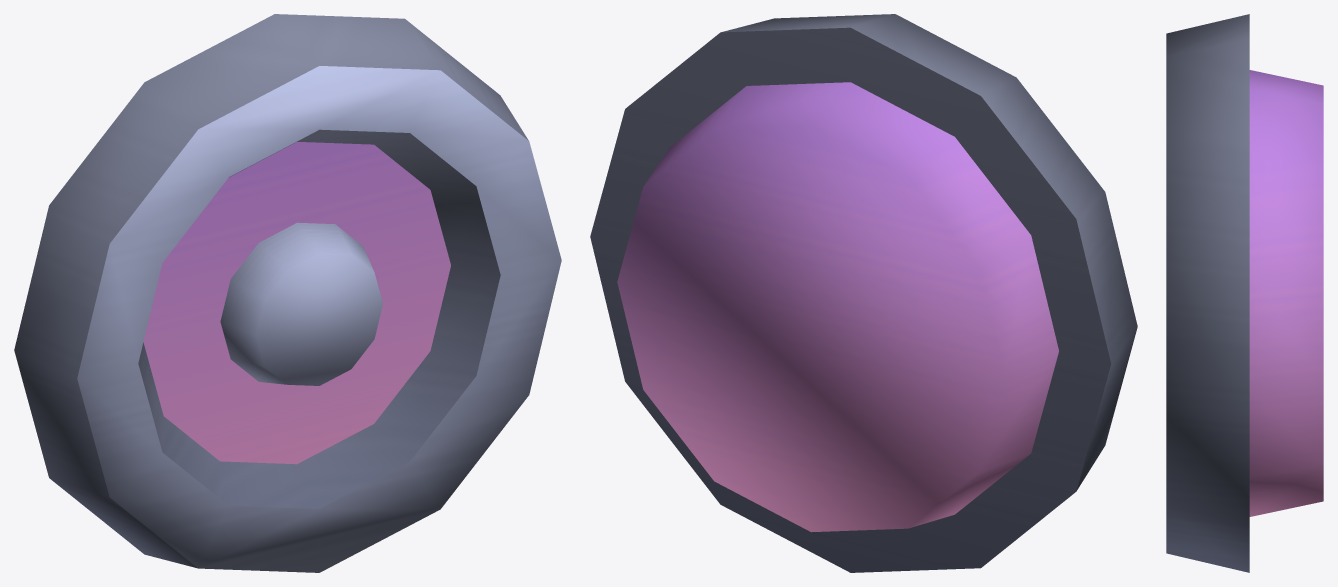
Rendered from shield-round.fbx.
3 renders of one model, left to right at view 1: azimuth 30°, elevation 25°; view 2: azimuth 150°, elevation 25°; view 3: azimuth 270°, elevation 25°, orthographic. The views are drawn at different scales.
Parts seen in each view (by area): view 1: shield-round; view 2: shield-round; view 3: shield-round.
Boxes of the visible parts, left/top/right/bottom form: shield-round: left=14, top=14, right=561, bottom=572; shield-round: left=590, top=14, right=1137, bottom=572; shield-round: left=1166, top=14, right=1323, bottom=572.
Size of the model in its own units: 37.97 by 37.97 by 10.65.
